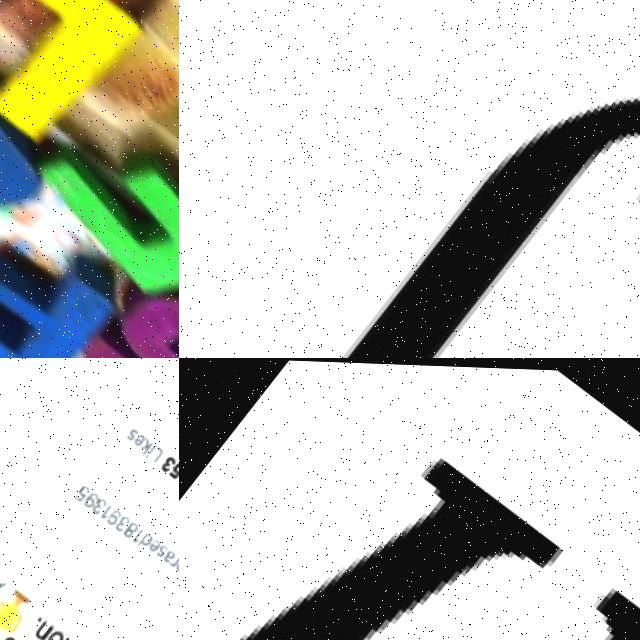1: (137, 525, 153, 543), (106, 502, 121, 519)
3: (120, 513, 138, 532), (97, 496, 115, 515), (164, 452, 179, 471)
5: (80, 483, 97, 502), (174, 459, 179, 478)
8: (128, 519, 147, 539)
9: (112, 506, 130, 526), (89, 490, 107, 508)
F: (7, 66, 179, 348)
H: (244, 456, 567, 640)
J: (229, 0, 640, 358), (0, 20, 71, 249)
L: (0, 0, 156, 147)
P: (0, 187, 141, 358)
